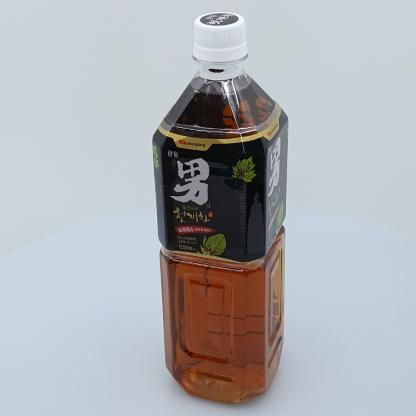----------1L: (152, 12, 289, 404)
